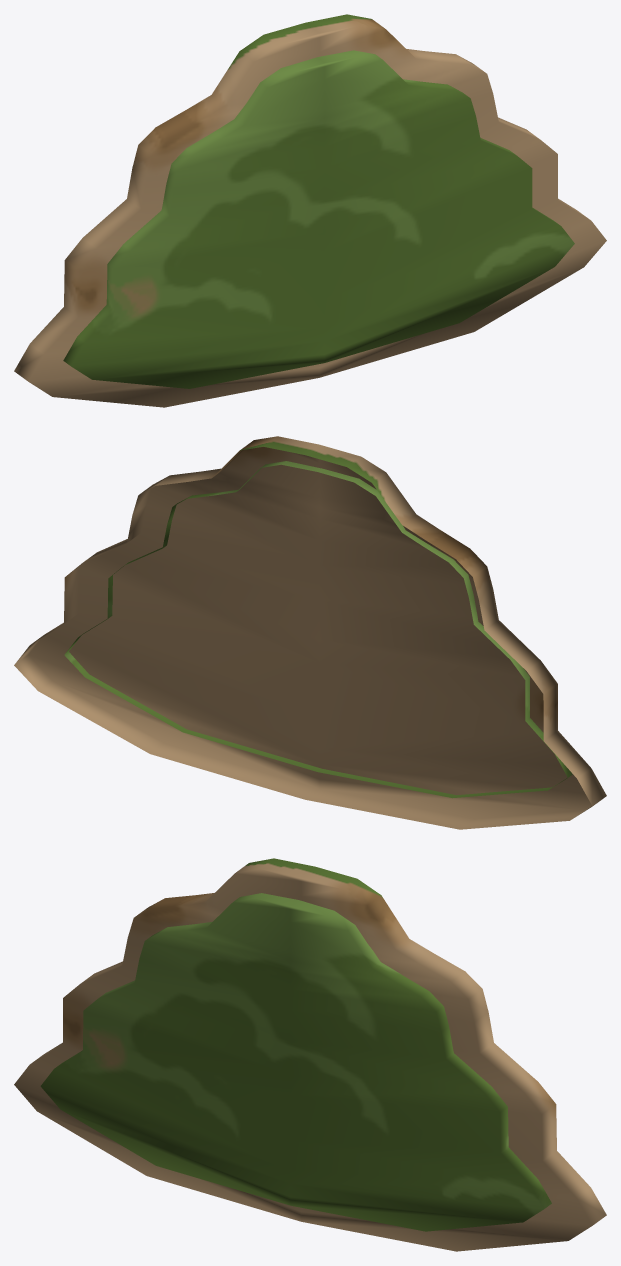
Rendered from Bush 1.fbx.
3 views of the same model, one above another, from view 1: azimuth 30°, elevation 25°; view 2: azimuth 150°, elevation 25°; view 3: azimuth 330°, elevation 25° (orthographic).
Visible parts, largest first — view 1: pCube3; view 2: pCube3; view 3: pCube3.
Part boxes in pixels (x1,y1,x2,y2): pCube3: (14, 14, 606, 407); pCube3: (14, 436, 606, 829); pCube3: (14, 858, 606, 1251).
Bounding box in the file's own units: 3.77 × 2.14 × 0.2889.
1 material, 1 textured.
